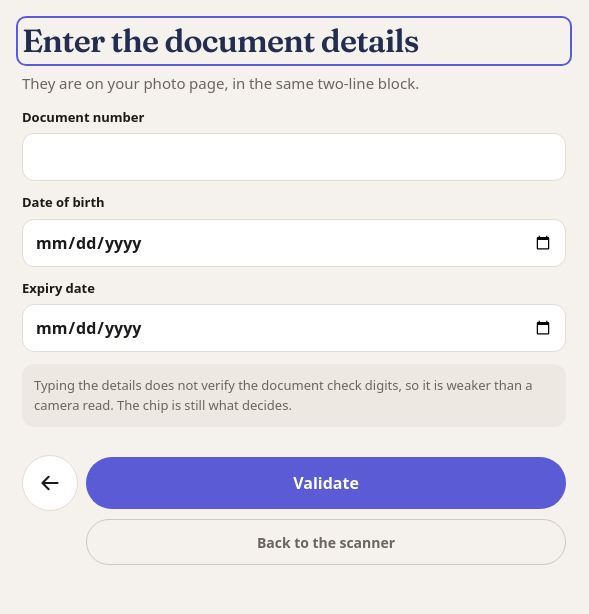
Test: DocumentVerificationJourney › refuses an expired document rather than passing it on
Step 1. Type "L898902C3" into the field labelled "Document number" → (294, 157), box left=22, top=133, right=566, bottom=181
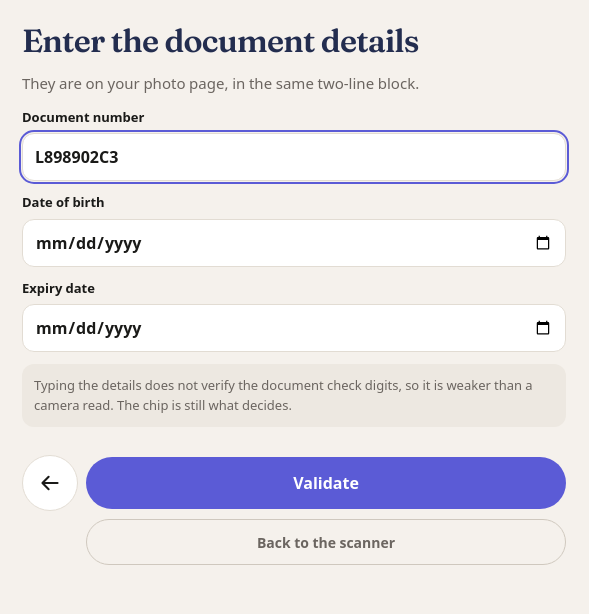
Step 2. Type "1974-08-12" into the date field labelled "Date of birth" → (294, 243), box left=22, top=219, right=566, bottom=267
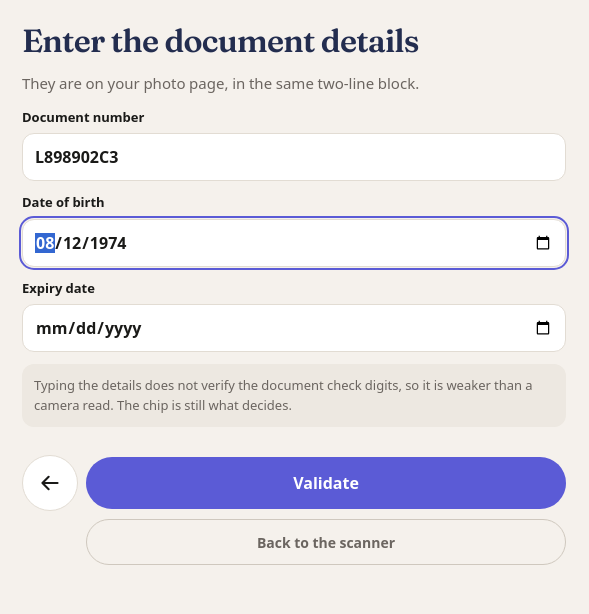
Step 3. Type "2012-04-15" into the date field labelled "Expiry date" → (294, 328), box left=22, top=304, right=566, bottom=352
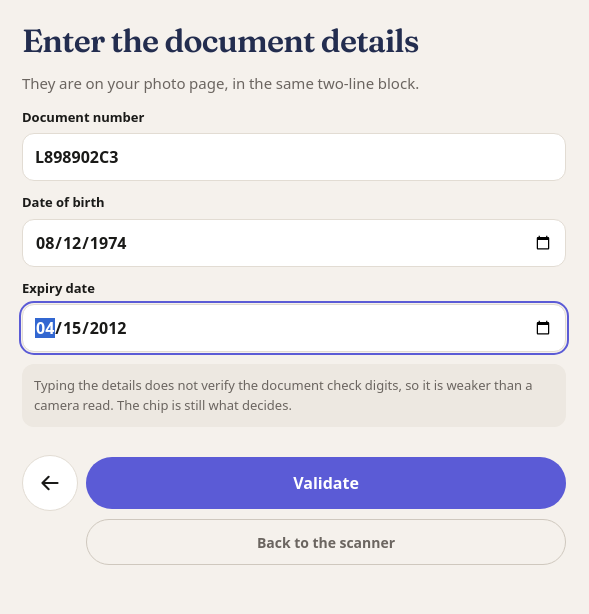
Step 4. Click the button "Validate" → (326, 483), box left=86, top=457, right=566, bottom=509
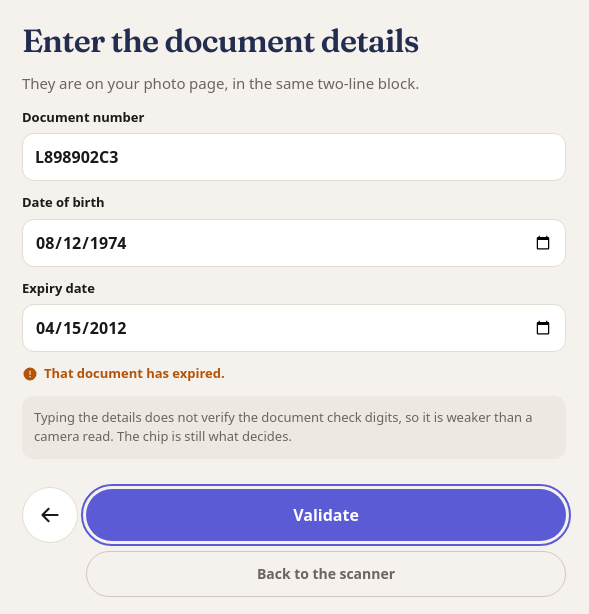
Check: the message shows "expired", box left=44, top=365, right=225, bottom=381
